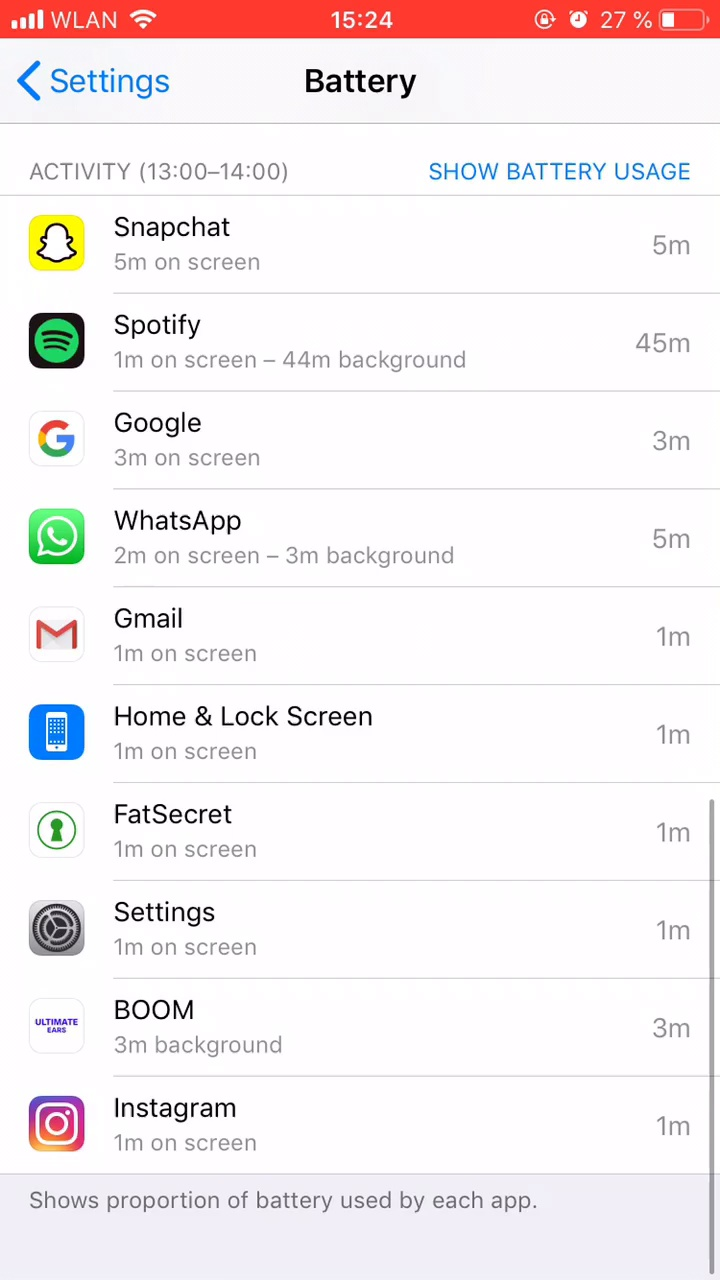activity: (23, 148, 328, 190)
app: (21, 306, 707, 382), (19, 407, 705, 483), (16, 498, 702, 574), (17, 592, 703, 668), (14, 696, 700, 772), (12, 796, 698, 872), (16, 892, 702, 968), (11, 992, 697, 1068), (16, 1091, 702, 1167), (21, 208, 714, 282)
